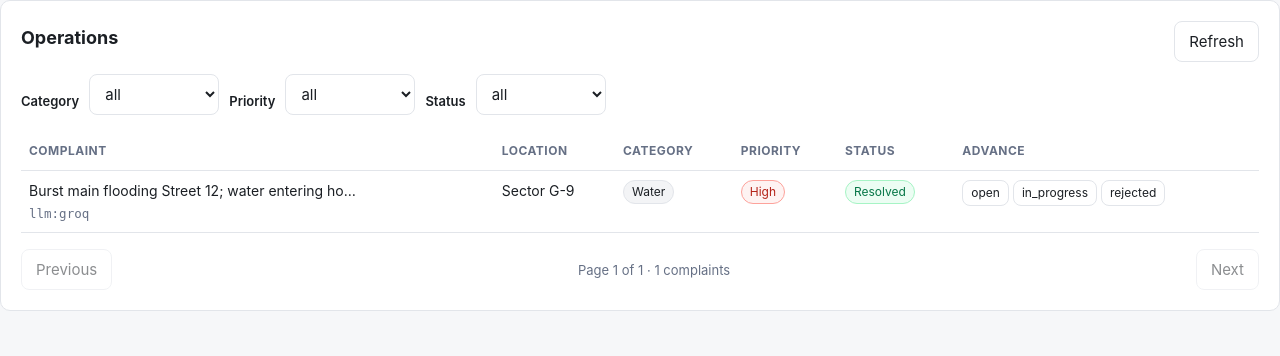
it: DashboardView › renders the server's 409 message verbatim instead of a generic error
Expected: the row with test id "complaint-row" is shown, [21,170,1259,233]
Click the button "open": (986, 193) [962,180,1009,206]
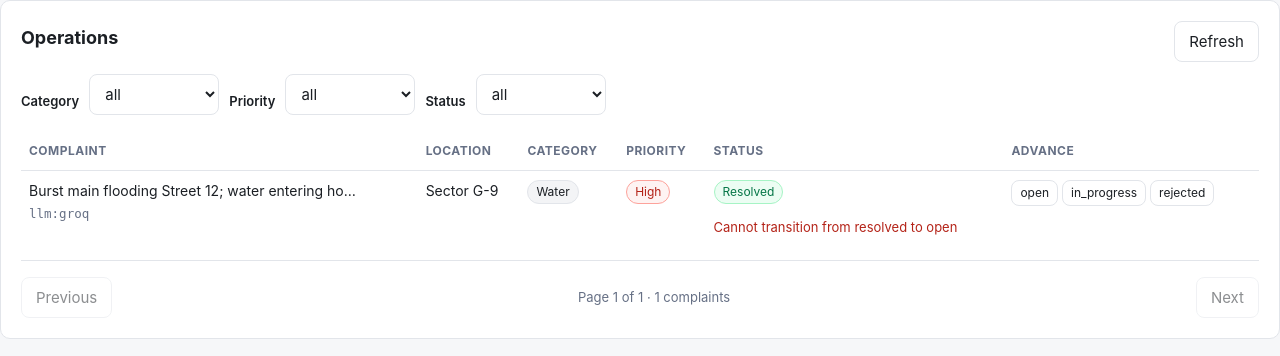
Now the message with test id "transition-error" reads "Cannot transition from resolved to open", box [714,219,957,235]
